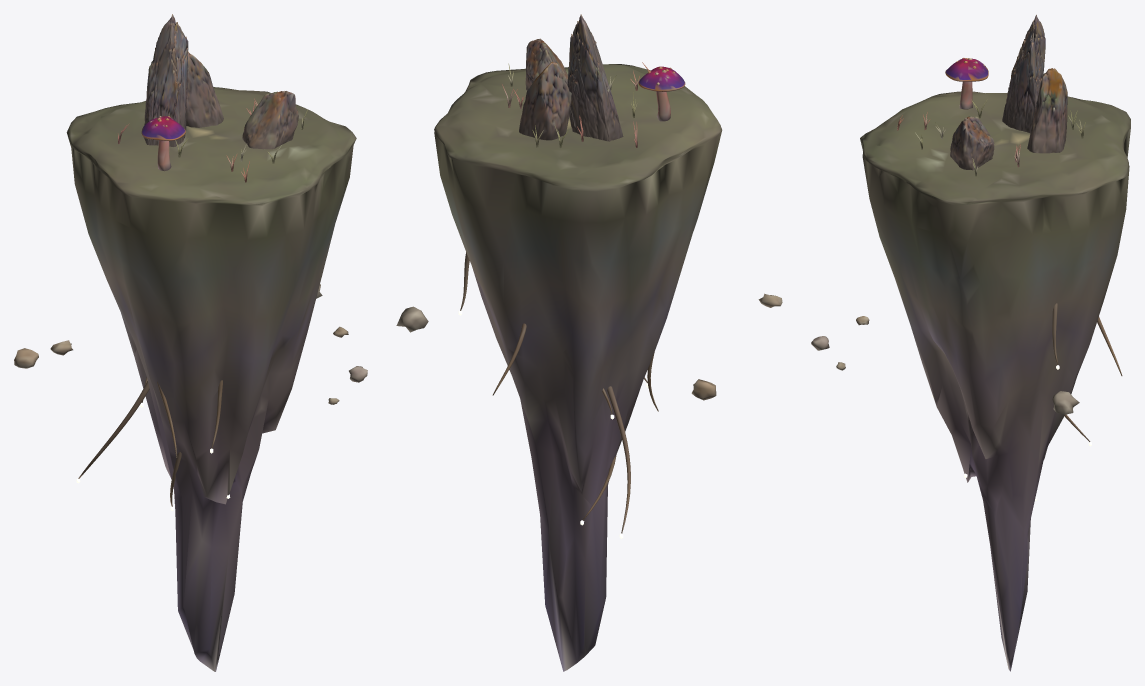
File: ucan_sivri.glb
The picture shows the model from 3 angles, left to right: view 1: azimuth 30°, elevation 25°; view 2: azimuth 150°, elevation 25°; view 3: azimuth 270°, elevation 25°; orthographic projection. The views are drawn at different scales.
Visible parts, largest first — view 1: ucan_sivri_LOD0; view 2: ucan_sivri_LOD0; view 3: ucan_sivri_LOD0.
Boxes of the visible parts, x1,y1,x2,y2 form: ucan_sivri_LOD0: [14, 14, 367, 671]; ucan_sivri_LOD0: [396, 14, 782, 671]; ucan_sivri_LOD0: [811, 14, 1130, 671].
Size of what is drawn, in the model's own units: 6.08 by 11.91 by 5.37.
